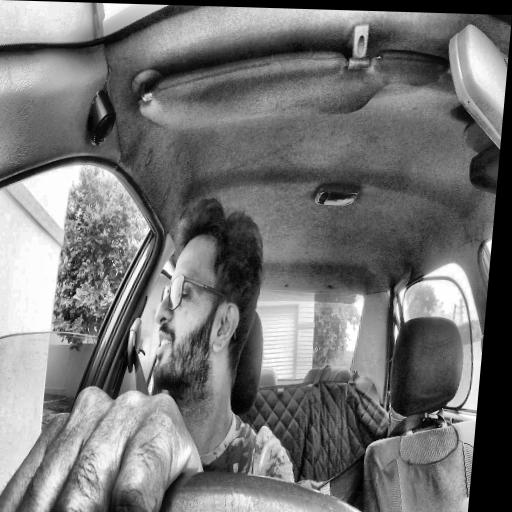drowsy: (146, 198, 270, 410)
